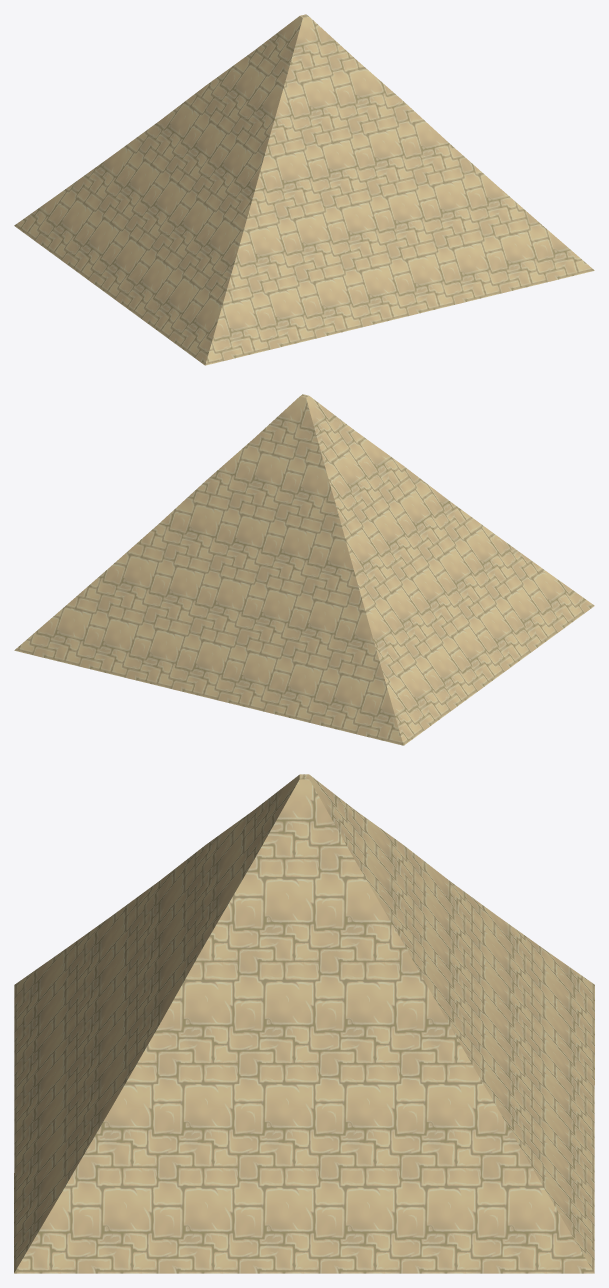
Rendered from ThePyramid.FBX.
3 views of the same model, one above another, from view 1: azimuth 30°, elevation 25°; view 2: azimuth 150°, elevation 25°; view 3: azimuth 270°, elevation 25° (orthographic). The views are drawn at different scales.
Visible parts, largest first — view 1: pyramid; view 2: pyramid; view 3: pyramid.
Boxes of the visible parts, x1,y1,x2,y2 form: pyramid: (14, 14, 594, 365); pyramid: (14, 394, 594, 745); pyramid: (14, 774, 594, 1273).
Bounding box in the file's own units: 42.18 × 35.87 × 24.
1 material, 1 textured.
